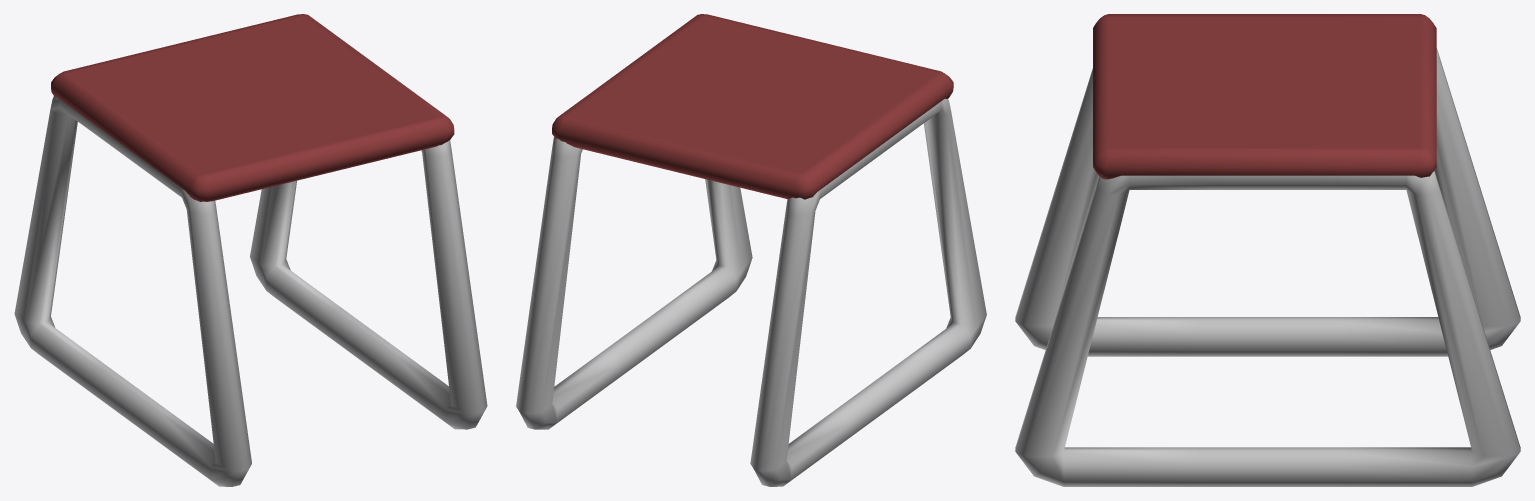
The model's file is Stool.FBX.
The picture shows the model from 3 angles, left to right: view 1: azimuth 30°, elevation 25°; view 2: azimuth 150°, elevation 25°; view 3: azimuth 270°, elevation 25°; orthographic projection. The views are drawn at different scales.
Parts seen in each view (by area): view 1: Stool; view 2: Stool; view 3: Stool.
Part boxes in pixels (x1,y1,x2,y2): Stool: [14, 14, 487, 486]; Stool: [516, 14, 986, 486]; Stool: [1015, 14, 1520, 486].
Size of the model in its own units: 111 by 120 by 163.
